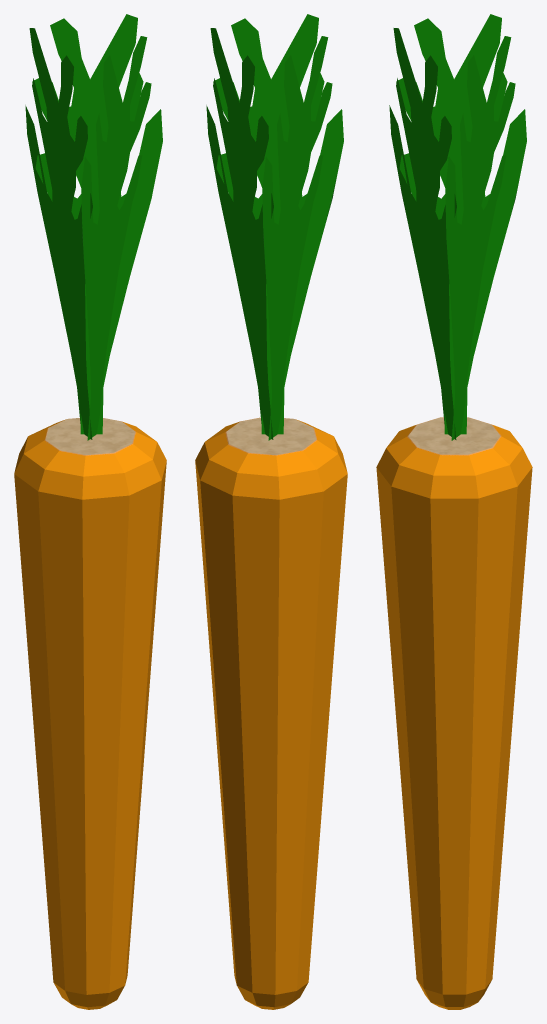
File: Charrot.fbx
3 renders of one model, left to right at view 1: azimuth 30°, elevation 25°; view 2: azimuth 150°, elevation 25°; view 3: azimuth 270°, elevation 25°, orthographic.
Parts seen in each view (by area): view 1: 円柱; view 2: 円柱; view 3: 円柱.
Boxes of the visible parts, x1,y1,x2,y2 form: 円柱: (14,14,166,1009); 円柱: (195,14,347,1009); 円柱: (376,14,532,1009).
Size of the model in its own units: 57.52 by 403 by 58.8.
